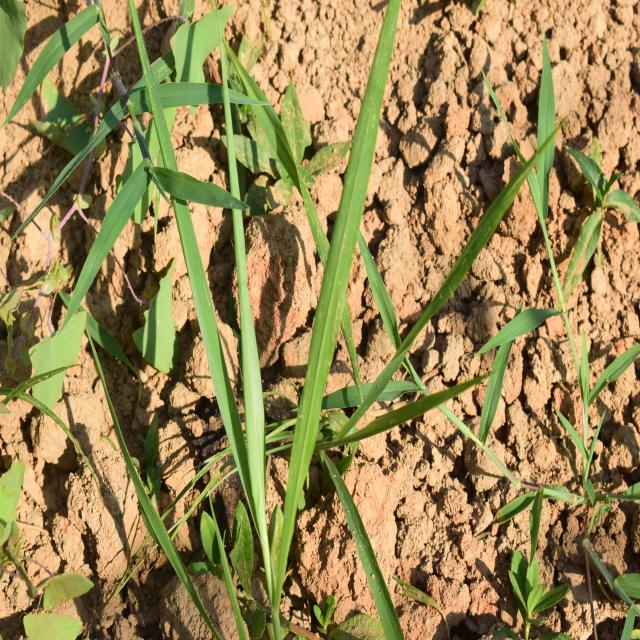green_foxtail: (85, 33, 444, 558)
